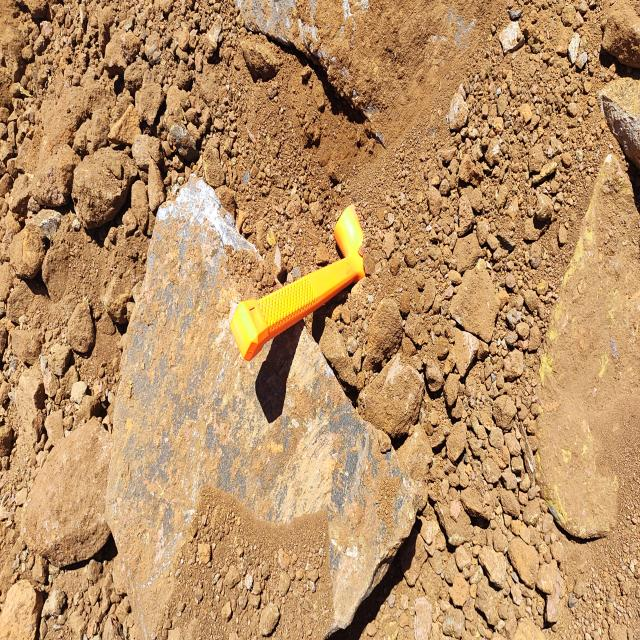Orange_hammer: (229, 202, 366, 362)
